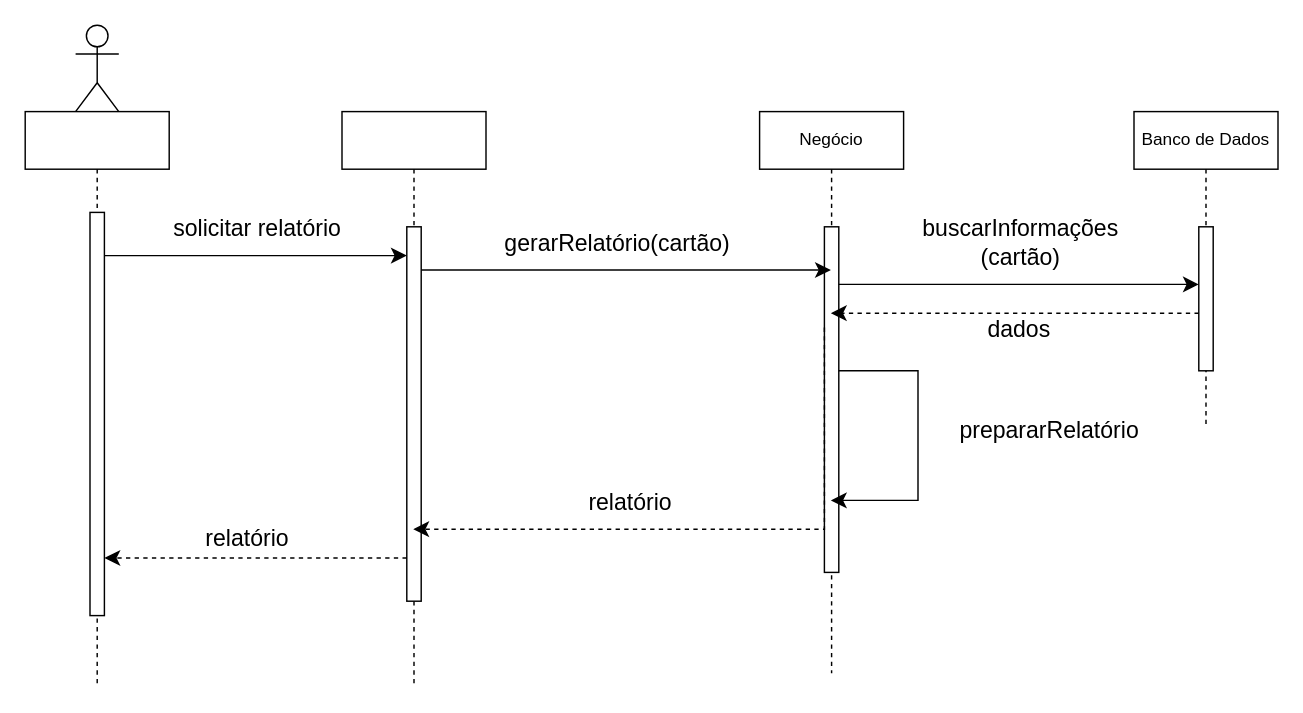
This 1303x713 diagram has some shape labels left out. The shapes that lost their labels are listed below. From the top down, each one's box as (x1, y1, x2, y2) in pixels, then its label:
(74, 24, 119, 112): Cliente
(341, 110, 486, 688): Tela
